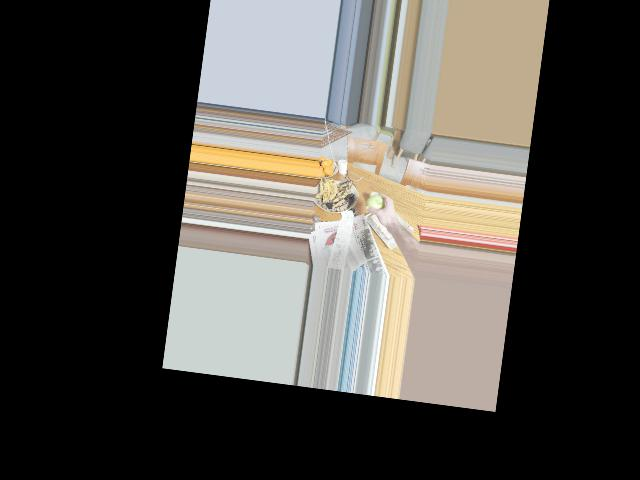apple: (365, 191, 389, 214)
